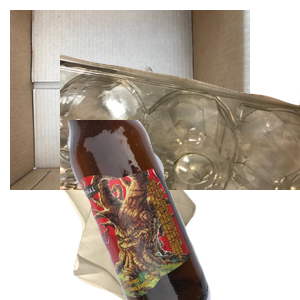cardboard: (10, 10, 250, 190)
glass: (65, 120, 300, 300)
plastic: (60, 52, 300, 232)
trash: (62, 120, 251, 300)
